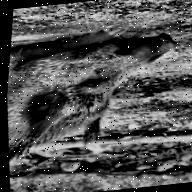boar: (1, 15, 192, 184)
